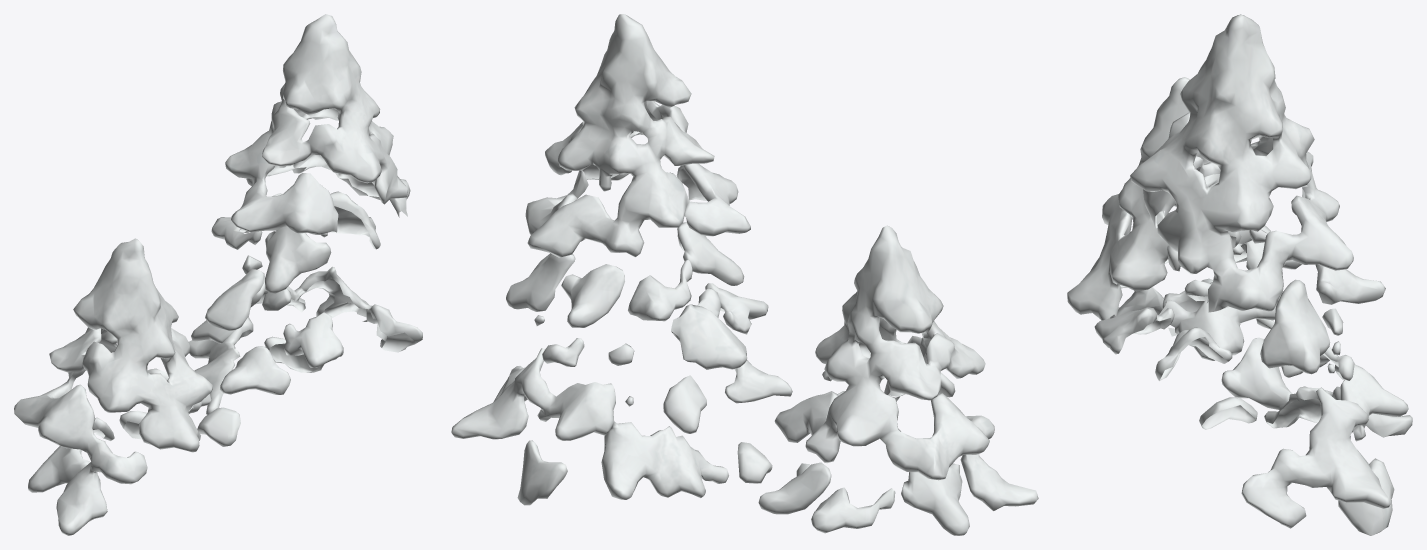
File: ChristmasRoom_OutsideTreeSnow03.fbx
3 renders of one model, left to right at view 1: azimuth 30°, elevation 25°; view 2: azimuth 150°, elevation 25°; view 3: azimuth 270°, elevation 25°, orthographic. The views are drawn at different scales.
Visible parts, largest first — view 1: ChristmasRoom_OutsideTreeSnow03; view 2: ChristmasRoom_OutsideTreeSnow03; view 3: ChristmasRoom_OutsideTreeSnow03.
Boxes of the visible parts, box(x1,y1,x2,y2) form: ChristmasRoom_OutsideTreeSnow03: box(14, 14, 422, 535); ChristmasRoom_OutsideTreeSnow03: box(451, 14, 1038, 535); ChristmasRoom_OutsideTreeSnow03: box(1067, 14, 1412, 535).
Bounding box in the file's own units: 273 × 253 × 159.
